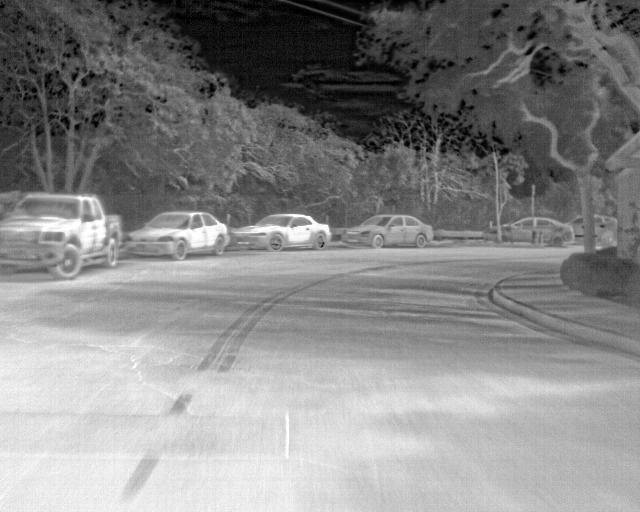car: (0, 191, 123, 279), (124, 208, 232, 261), (232, 211, 332, 253), (342, 212, 434, 250), (534, 217, 572, 247), (500, 217, 530, 245), (592, 213, 617, 237), (564, 214, 585, 239)
